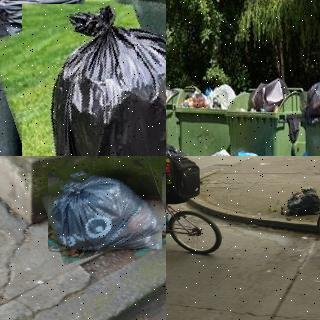Garbage: (4, 0, 166, 156), (43, 160, 166, 257), (279, 181, 320, 218), (300, 74, 320, 118)
